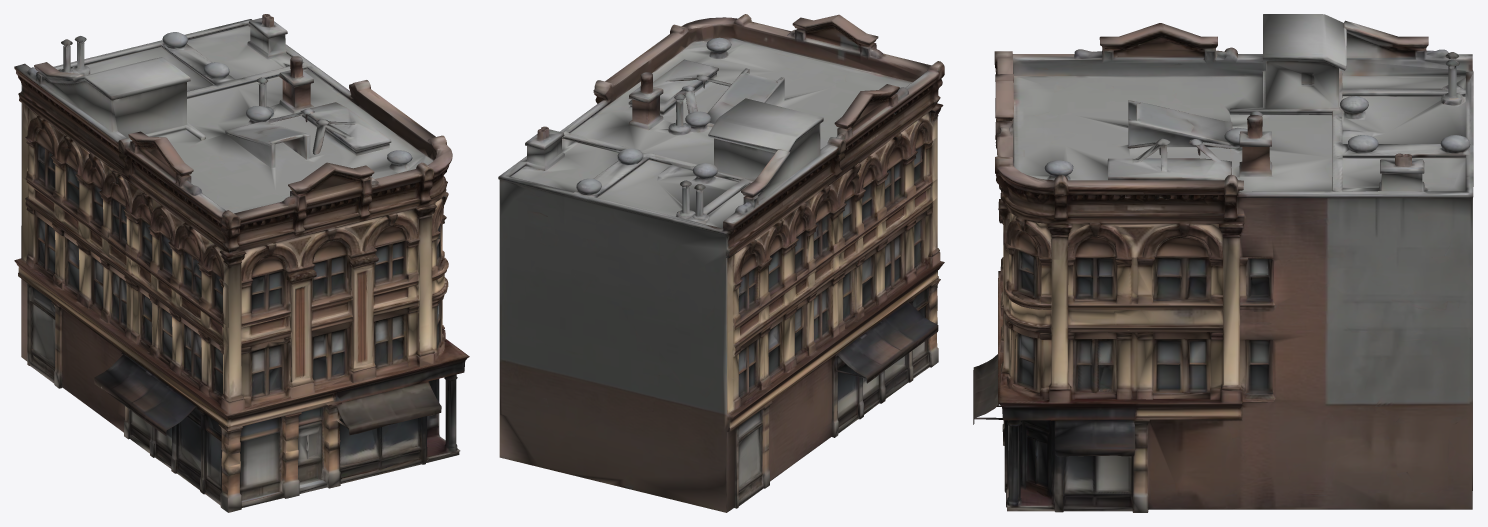
Rendered from ornate_corner.glb.
The picture shows the model from 3 angles, left to right: view 1: azimuth 30°, elevation 25°; view 2: azimuth 150°, elevation 25°; view 3: azimuth 270°, elevation 25°; orthographic projection. The views are drawn at different scales.
Visible parts, largest first — view 1: node_0; view 2: node_0; view 3: node_0.
Boxes of the visible parts, x1,y1,x2,y2 form: node_0: (14, 14, 469, 512); node_0: (498, 14, 944, 512); node_0: (973, 14, 1473, 512).
Size of the model in its own units: 0.626 by 0.6882 by 0.8425.
Materials: 1 (1 with a texture image).
